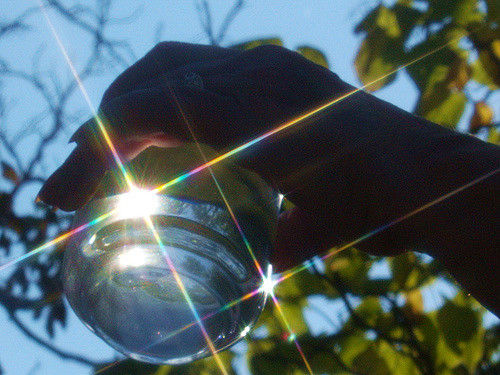glass of water: (67, 71, 274, 358)
